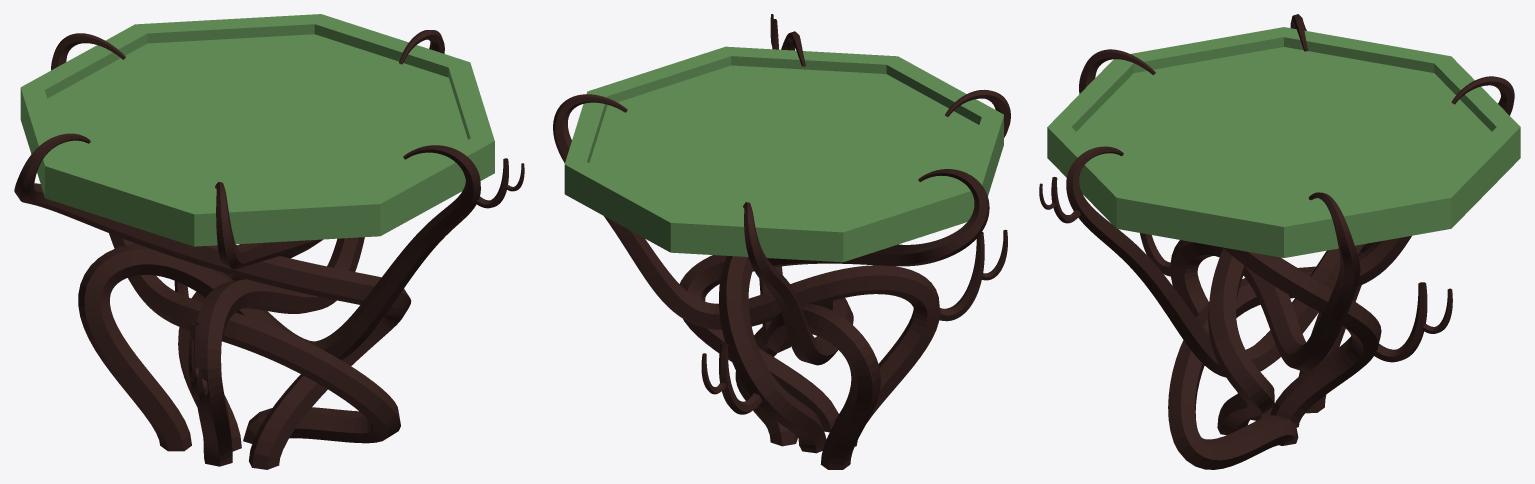
Rendered from tyreetable.fbx.
3 renders of one model, left to right at view 1: azimuth 30°, elevation 25°; view 2: azimuth 150°, elevation 25°; view 3: azimuth 270°, elevation 25°, orthographic. The views are drawn at different scales.
Parts seen in each view (by area): view 1: NurbsPath.002, NurbsPath.001; view 2: NurbsPath.002, NurbsPath.001; view 3: NurbsPath.002, NurbsPath.001.
Part boxes in pixels (x1,y1,x2,y2): NurbsPath.002: (20,14,494,246); NurbsPath.001: (14,30,524,469); NurbsPath.002: (564,46,1003,262); NurbsPath.001: (553,14,1010,469); NurbsPath.002: (1047,27,1520,257); NurbsPath.001: (1039,14,1514,469).
Size of the model in its own units: 289 by 213 by 281.
